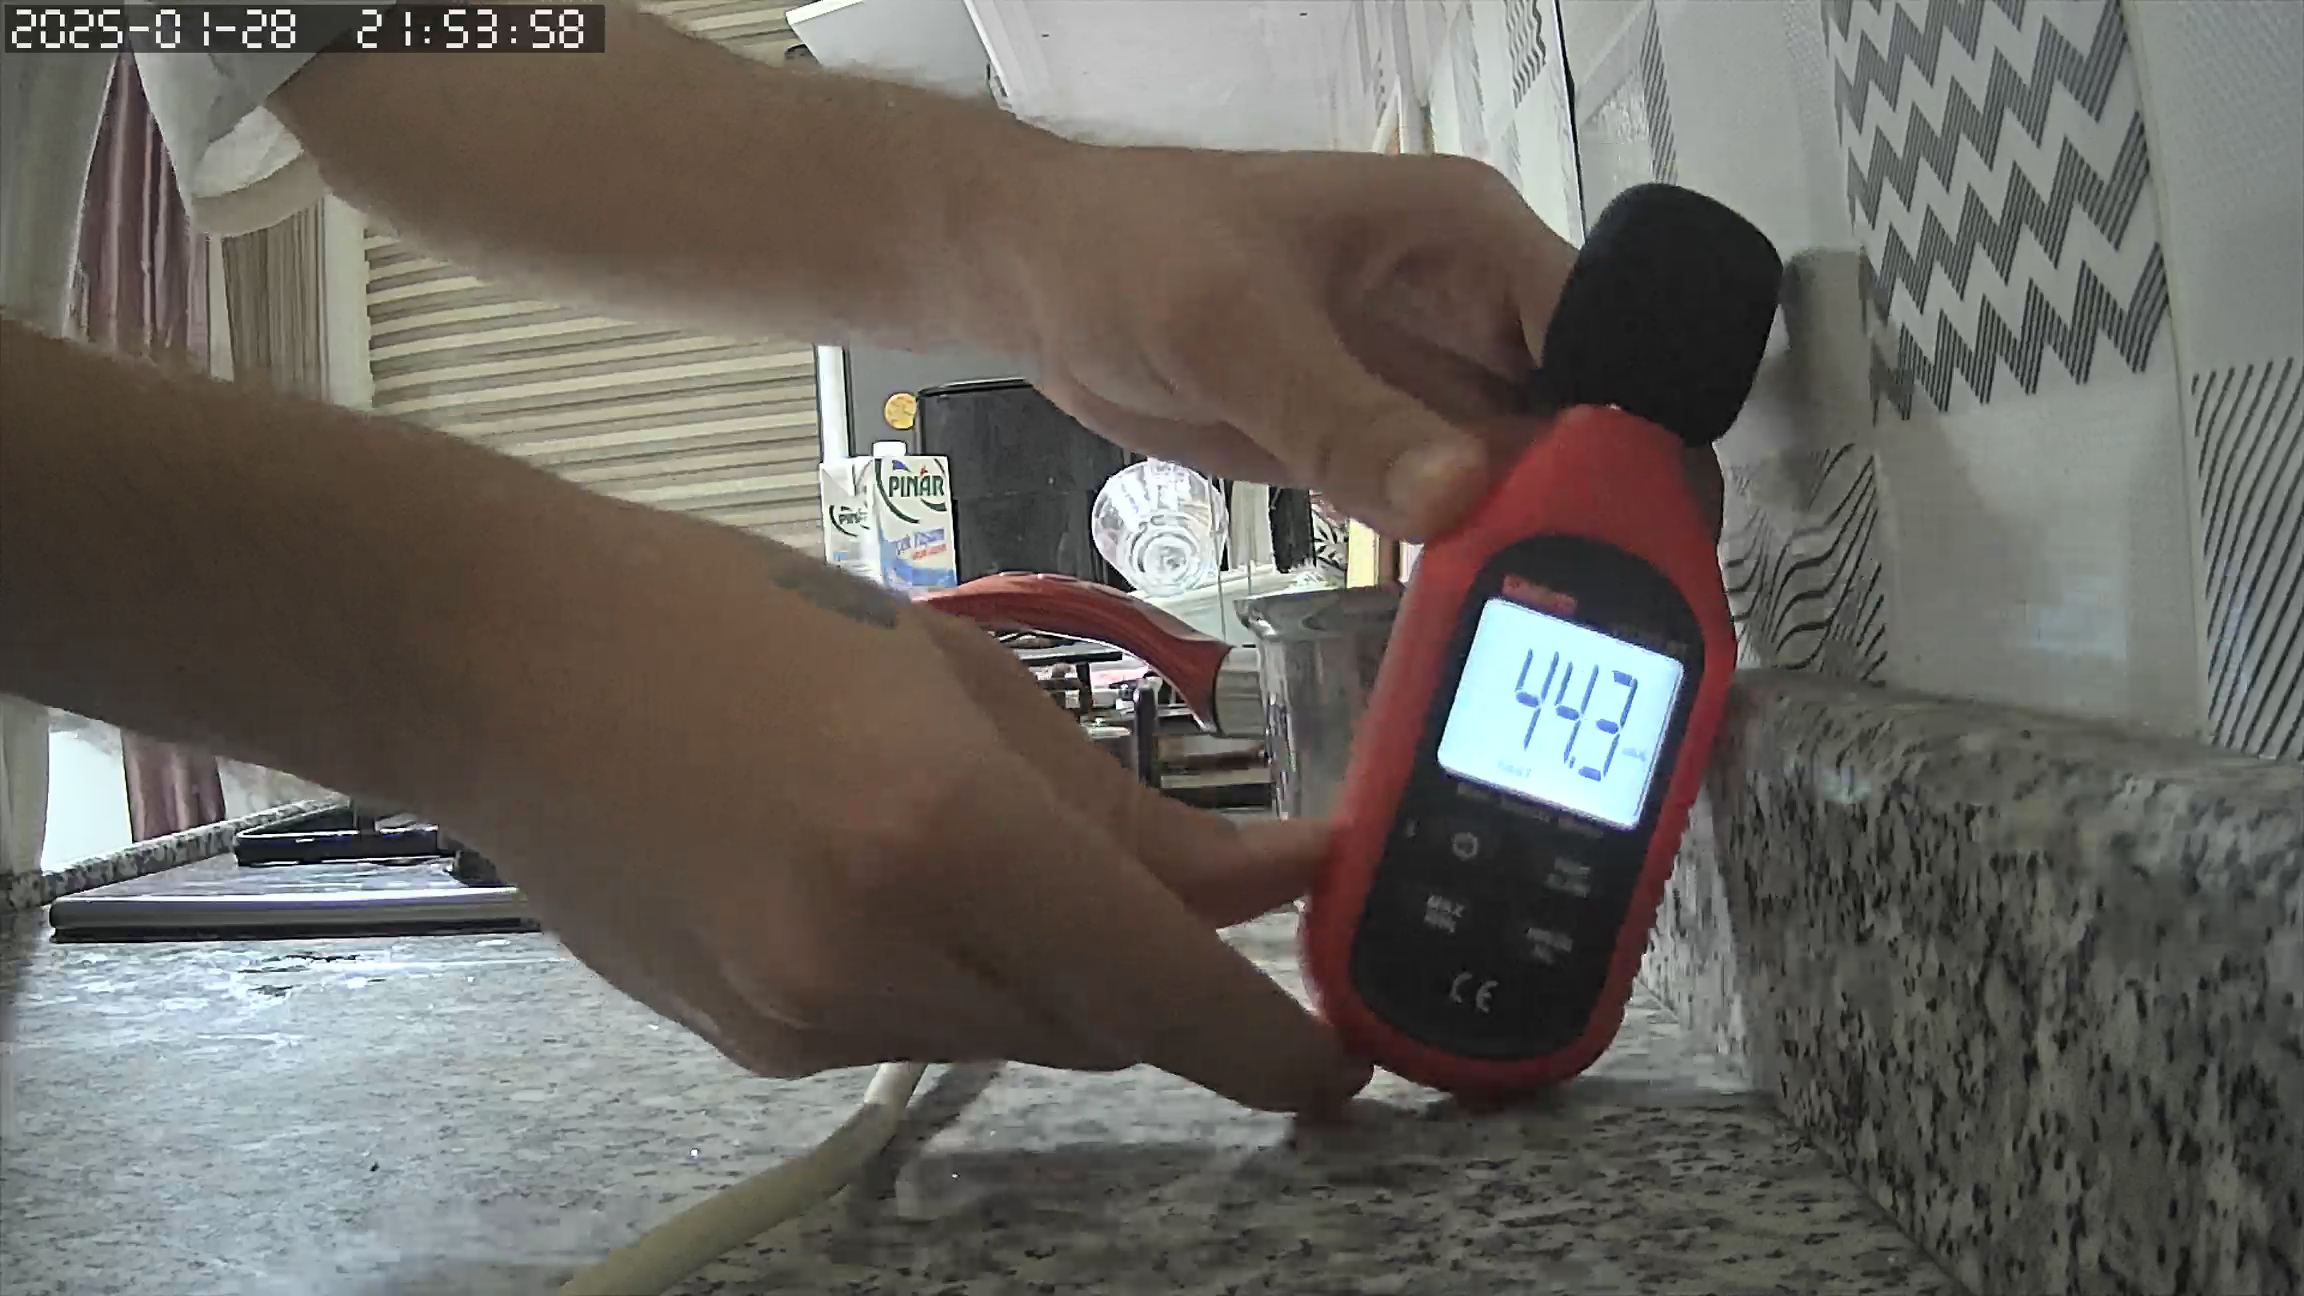screen: (1438, 597, 1681, 831)
